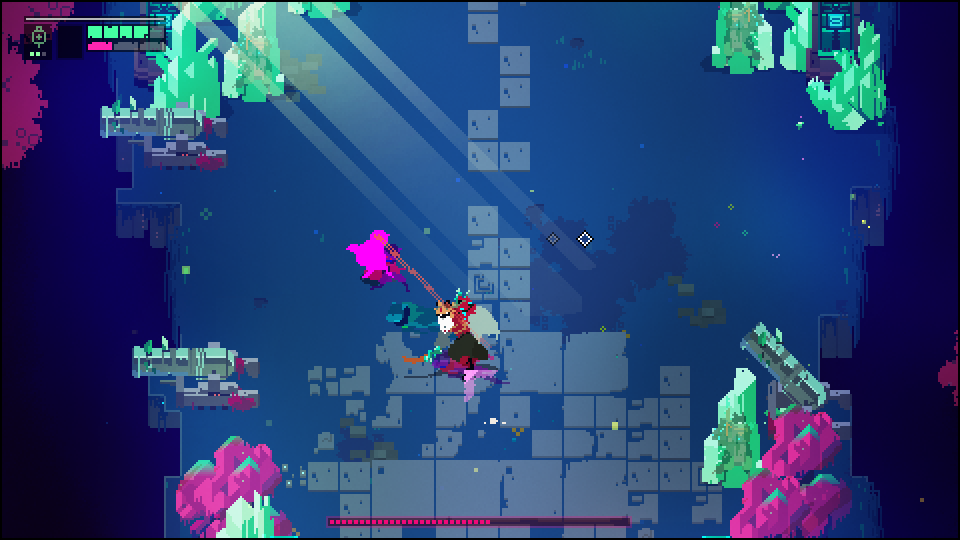hanged_man: (412, 286, 502, 381)
player: (342, 224, 391, 281)
